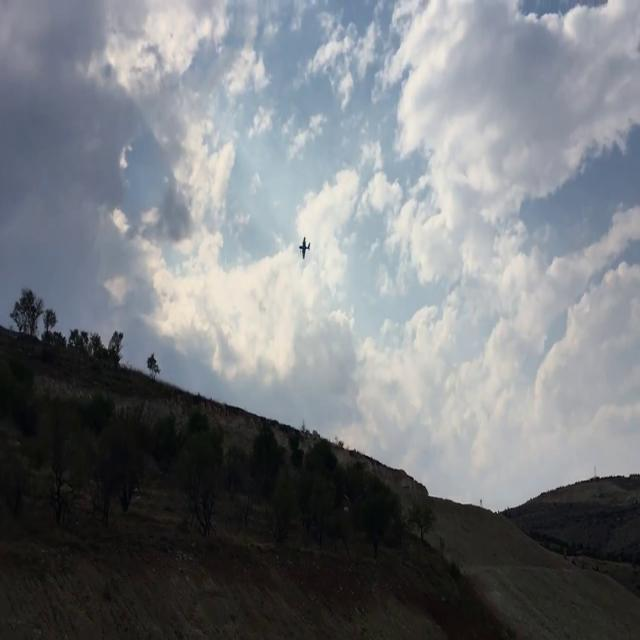iha: (296, 238, 312, 262)
